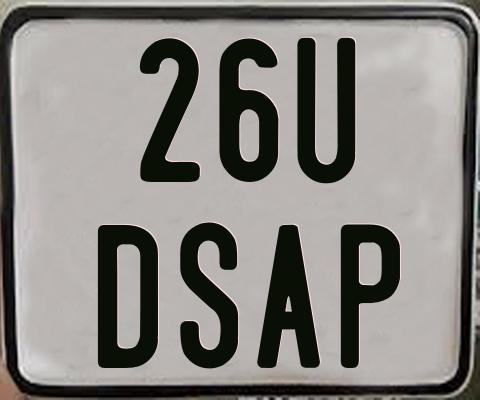2: (137, 38, 197, 187)
6: (218, 37, 282, 184)
A: (256, 222, 322, 365)
D: (98, 223, 162, 371)
P: (341, 224, 403, 370)
S: (179, 222, 239, 371)
U: (297, 36, 361, 185)
